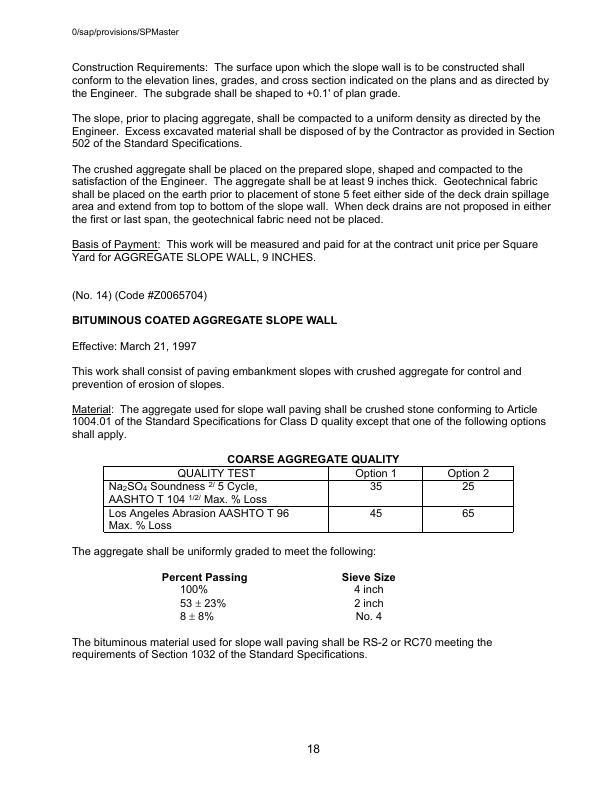table: (100, 464, 517, 539)
text: (67, 55, 563, 303), (71, 313, 552, 442), (69, 545, 501, 665), (226, 452, 402, 464)
